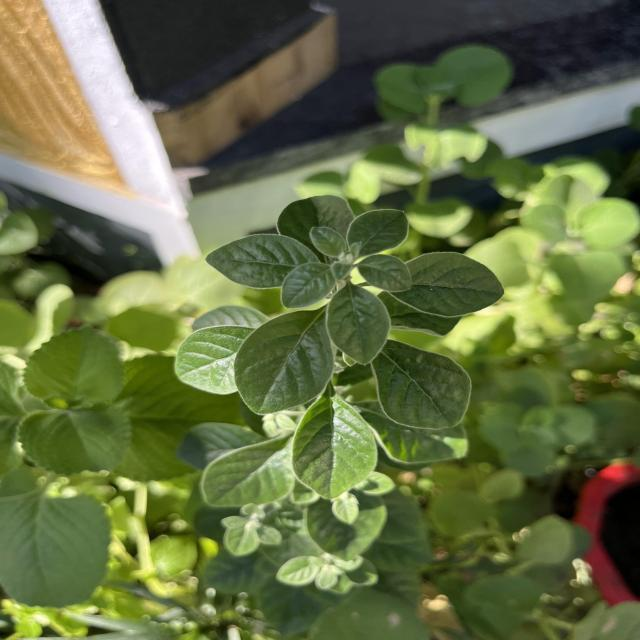Aerva lanata: (232, 308, 336, 417), (289, 390, 381, 502), (371, 340, 474, 430), (386, 248, 508, 320), (202, 231, 319, 291)
